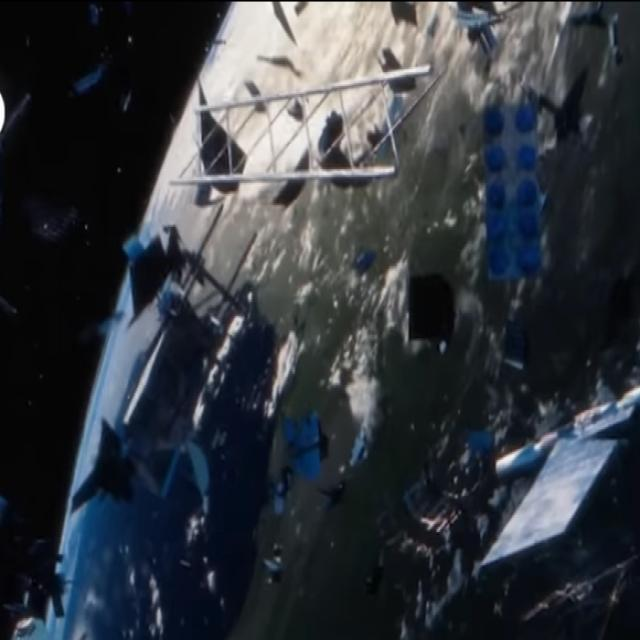large_debris: (68, 250, 265, 545), (439, 351, 640, 602), (148, 49, 456, 207), (481, 112, 556, 284)
small_debris: (260, 555, 293, 583), (81, 0, 111, 30), (0, 102, 26, 134), (72, 73, 96, 103), (277, 1, 316, 19), (119, 89, 141, 117), (354, 250, 377, 273), (396, 8, 422, 27)
